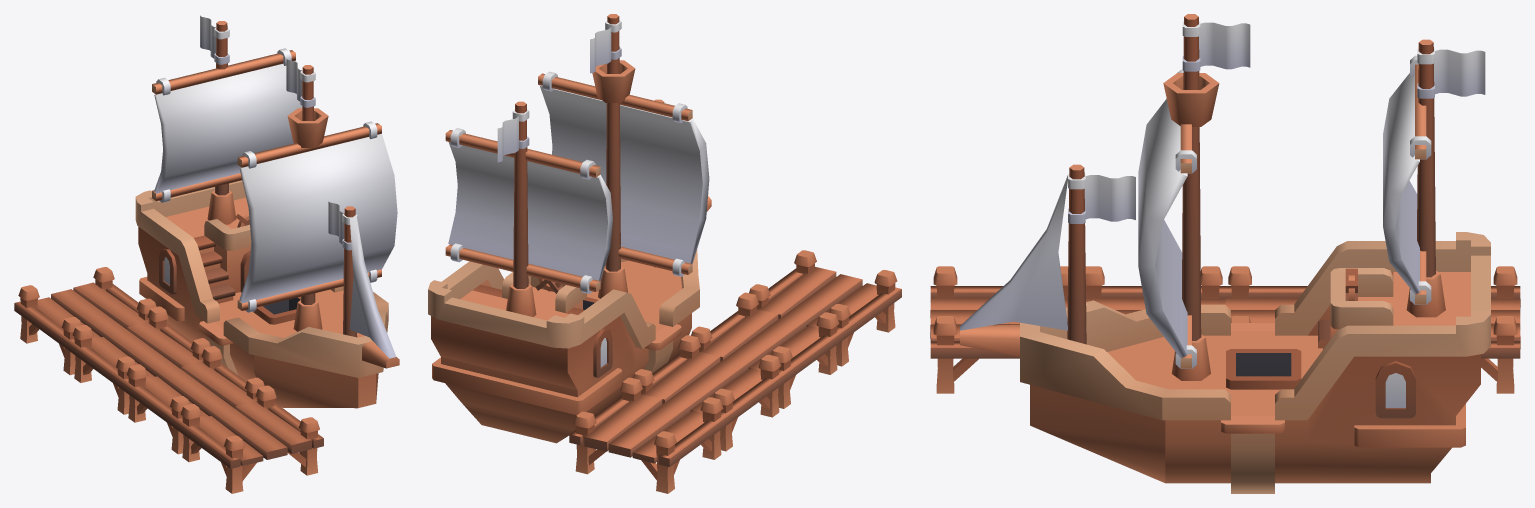
File: harbour.glb
3 renders of one model, left to right at view 1: azimuth 30°, elevation 25°; view 2: azimuth 150°, elevation 25°; view 3: azimuth 270°, elevation 25°, orthographic. The views are drawn at different scales.
Parts seen in each view (by area): view 1: harbour; view 2: harbour; view 3: harbour.
Boxes of the visible parts, left/top/right/bottom form: harbour: left=14, top=15, right=399, bottom=493; harbour: left=428, top=14, right=901, bottom=493; harbour: left=930, top=14, right=1520, bottom=493.
Size of the model in its own units: 16 by 20.33 by 24.03.
5 materials, 5 textured.
